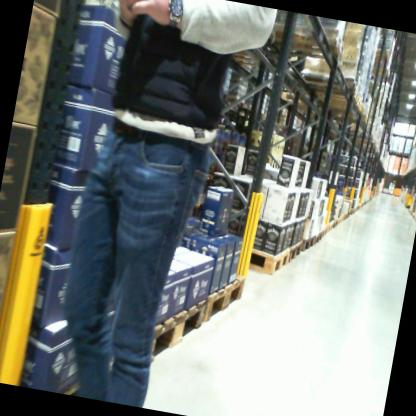pallet: (142, 274, 210, 372), (199, 255, 249, 337), (237, 237, 290, 283), (296, 67, 359, 101), (269, 88, 316, 112), (286, 235, 303, 266), (300, 232, 315, 253), (311, 228, 324, 247), (319, 221, 328, 238)
